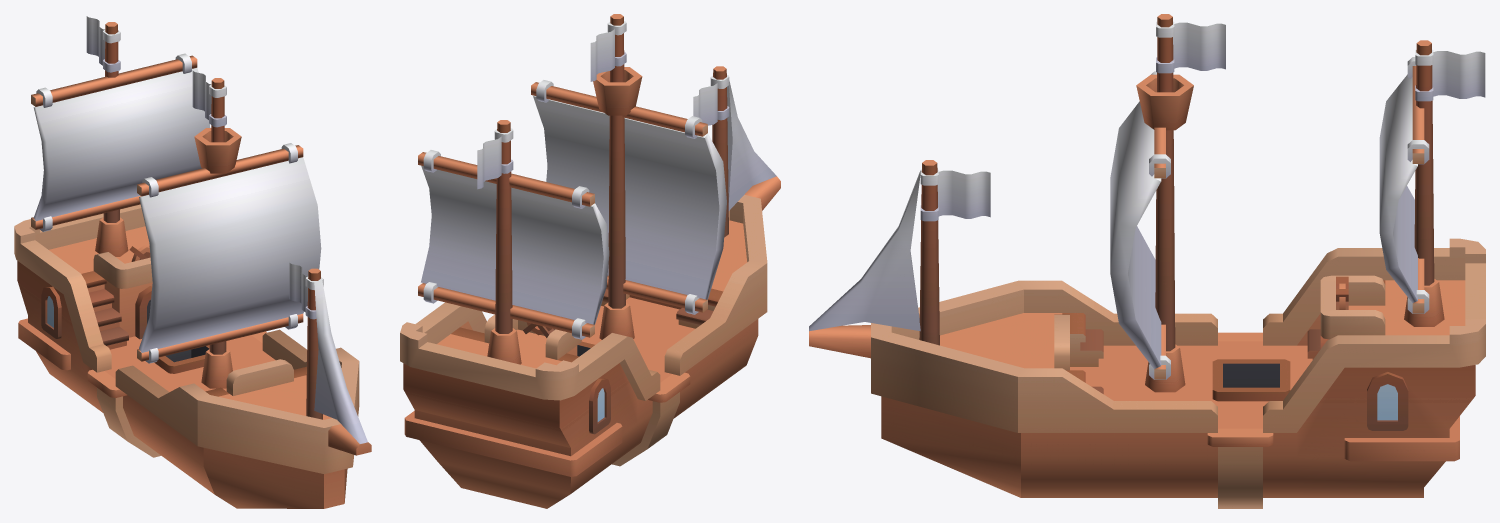
Rendered from ship-large-transformed-transformed.glb.
3 views of the same model, side by side, from view 1: azimuth 30°, elevation 25°; view 2: azimuth 150°, elevation 25°; view 3: azimuth 270°, elevation 25° (orthographic). The views are drawn at different scales.
Visible parts, largest first — view 1: ship-large, sail-a, sail-b, flag-b, flag-c, flag-a; view 2: ship-large, sail-a, sail-b, flag-b, flag-c, flag-a; view 3: ship-large, sail-a, sail-b, flag-c, flag-a, flag-b.
Part boxes in pixels (bbox=[...]): ship-large: bbox=[14, 22, 371, 508]; sail-a: bbox=[137, 143, 321, 363]; sail-b: bbox=[31, 53, 210, 231]; flag-b: bbox=[192, 70, 226, 127]; flag-c: bbox=[86, 16, 120, 72]; flag-a: bbox=[289, 262, 323, 319]; ship-large: bbox=[400, 14, 780, 508]; sail-a: bbox=[531, 80, 726, 314]; sail-b: bbox=[418, 150, 609, 339]; flag-b: bbox=[590, 21, 626, 81]; flag-c: bbox=[477, 128, 513, 189]; flag-a: bbox=[693, 75, 729, 125]; ship-large: bbox=[809, 14, 1485, 508]; sail-a: bbox=[1110, 71, 1170, 379]; sail-b: bbox=[1379, 57, 1429, 313]; flag-c: bbox=[1415, 49, 1485, 101]; flag-a: bbox=[920, 169, 990, 221]; flag-b: bbox=[1156, 21, 1225, 73].
Size of the model in its own units: 4.8 by 9.96 by 13.1.
1 material, 1 textured.
